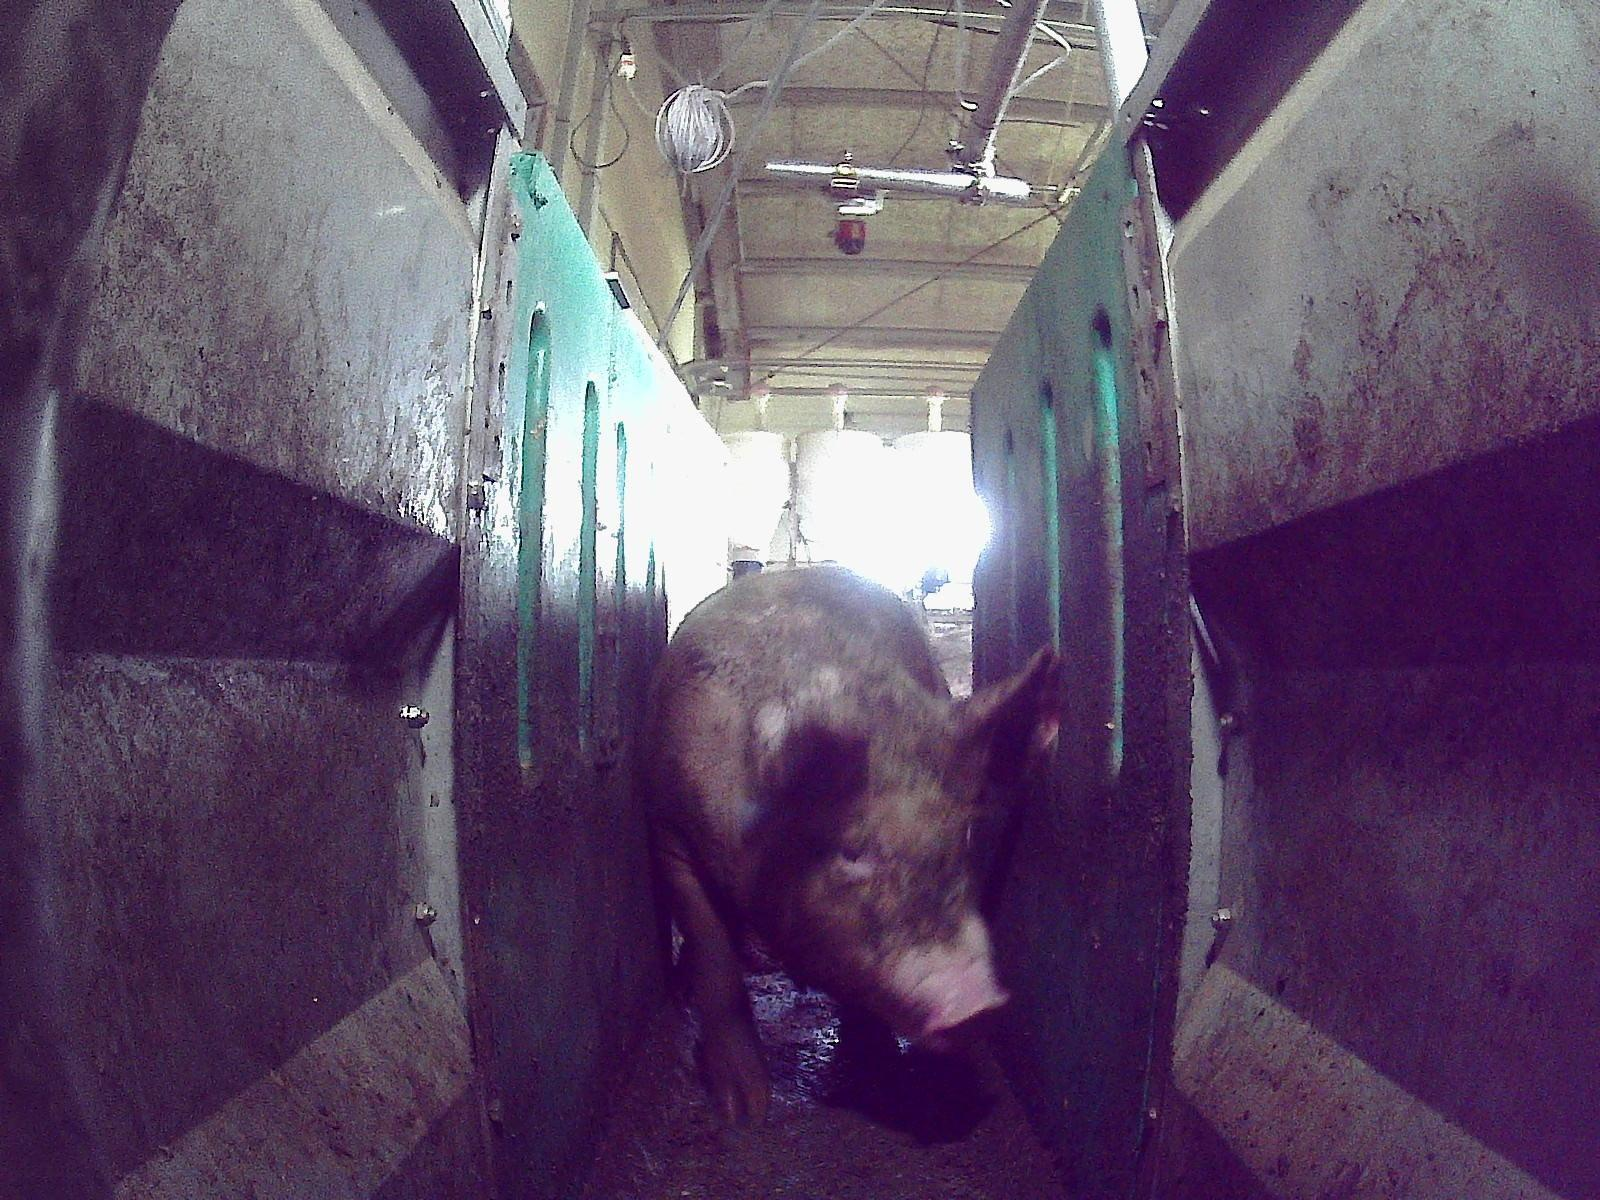Face: (776, 732, 1011, 1044)
